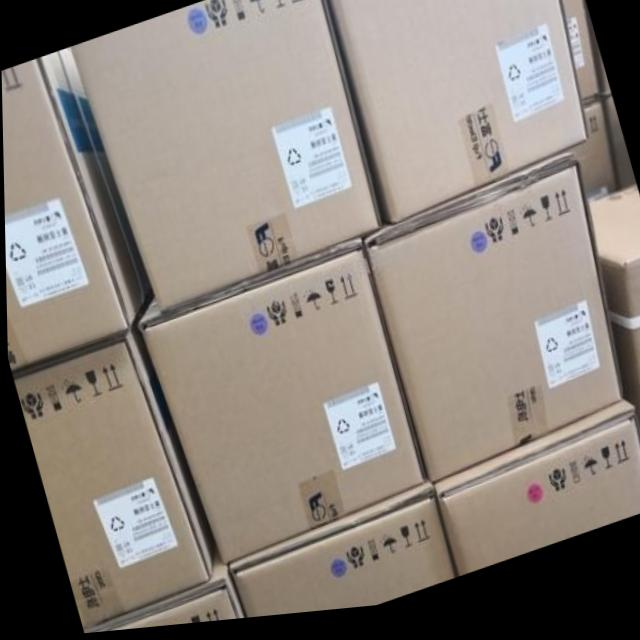box: (70, 0, 380, 315), (137, 243, 423, 568), (361, 162, 620, 491), (10, 295, 212, 631), (323, 0, 588, 231), (1, 49, 152, 369), (430, 409, 640, 583), (225, 484, 454, 622), (82, 543, 243, 635), (588, 195, 640, 454), (563, 105, 616, 215), (560, 0, 598, 113), (595, 106, 634, 203), (580, 0, 610, 108)
